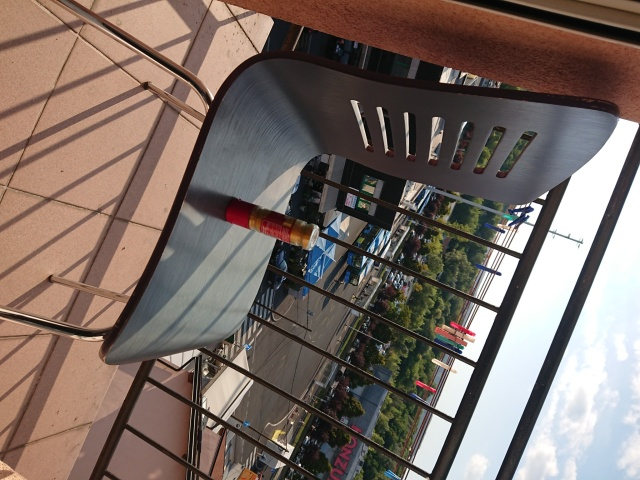Kotanyi Curry Spices Mix 70g: (223, 195, 321, 252)
